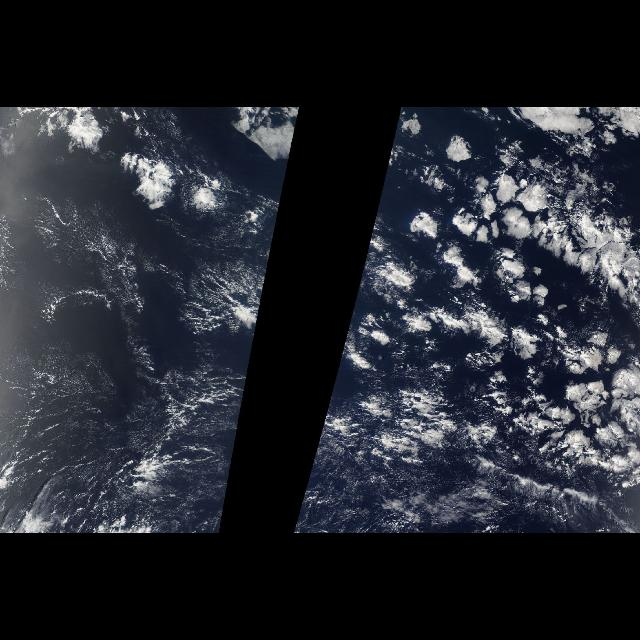Flower: (400, 116, 640, 506), (44, 110, 226, 224)
Sugar: (1, 184, 153, 532), (290, 434, 464, 532), (165, 351, 253, 531)
